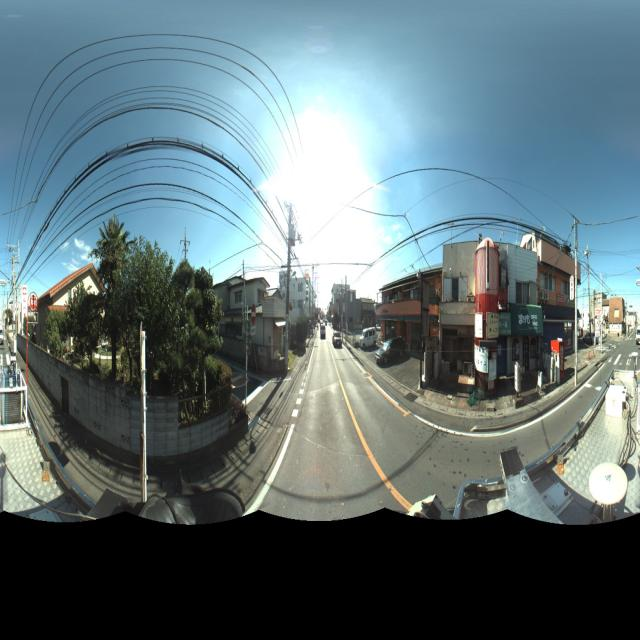b_1: (439, 238, 538, 385), (221, 273, 294, 371), (529, 217, 578, 357), (374, 262, 441, 352), (331, 283, 381, 347), (287, 274, 319, 339), (598, 291, 627, 350)
b_2: (36, 245, 136, 394)
